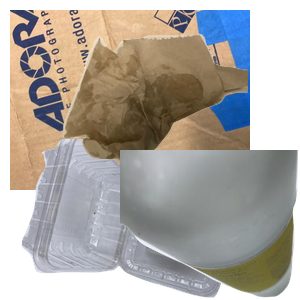cardboard: (10, 10, 250, 190)
glass: (120, 150, 300, 300)
plastic: (19, 139, 249, 300)
trash: (60, 31, 300, 189)
